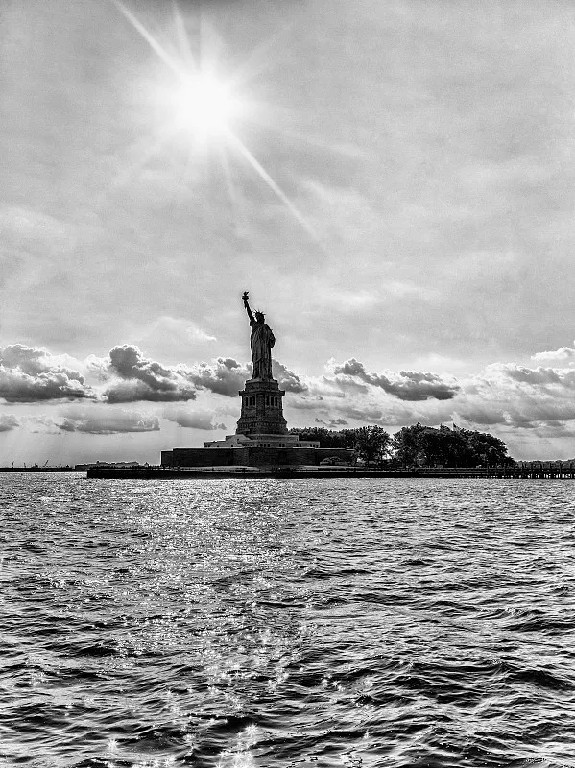SL: (236, 290, 289, 435)
